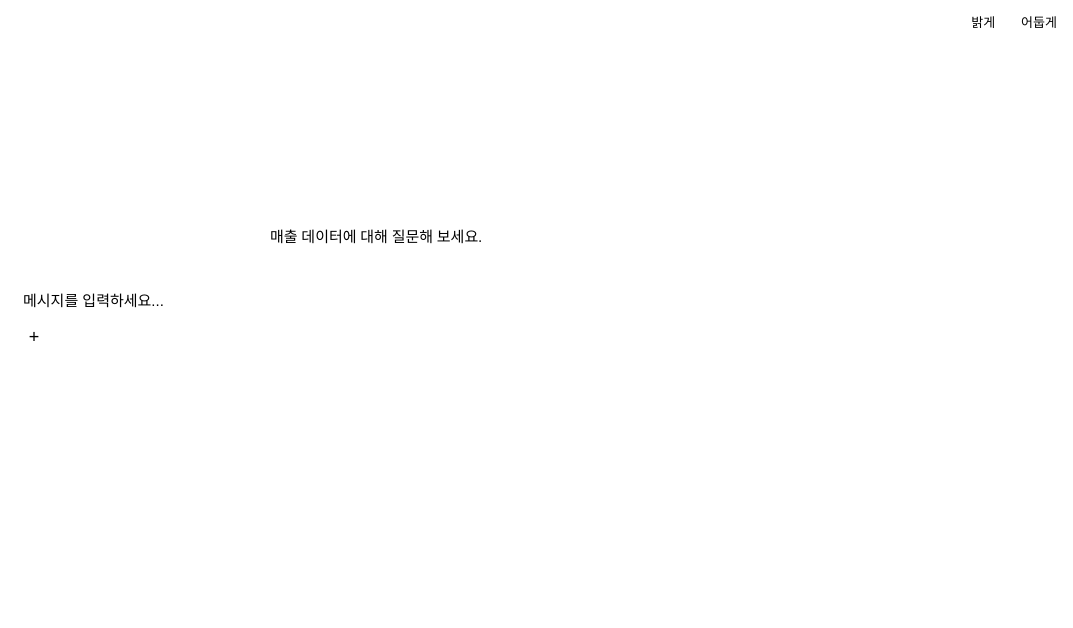
Scenario: Chat › renders a ```chart block as a ChartRenderer instead of a code block
Type "매출 추이 보여줘" into the field with placeholder "메시지를 입력하세요..." at (379, 300), box [19,288,739,313]
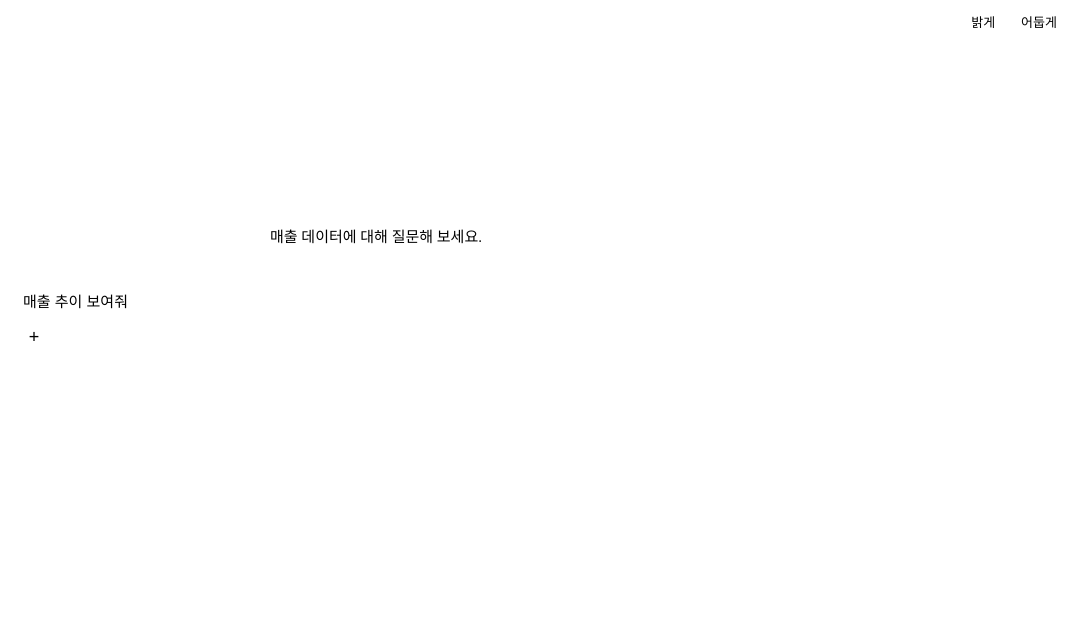
Press Enter in the field with placeholder "메시지를 입력하세요...", box [19,288,739,313]
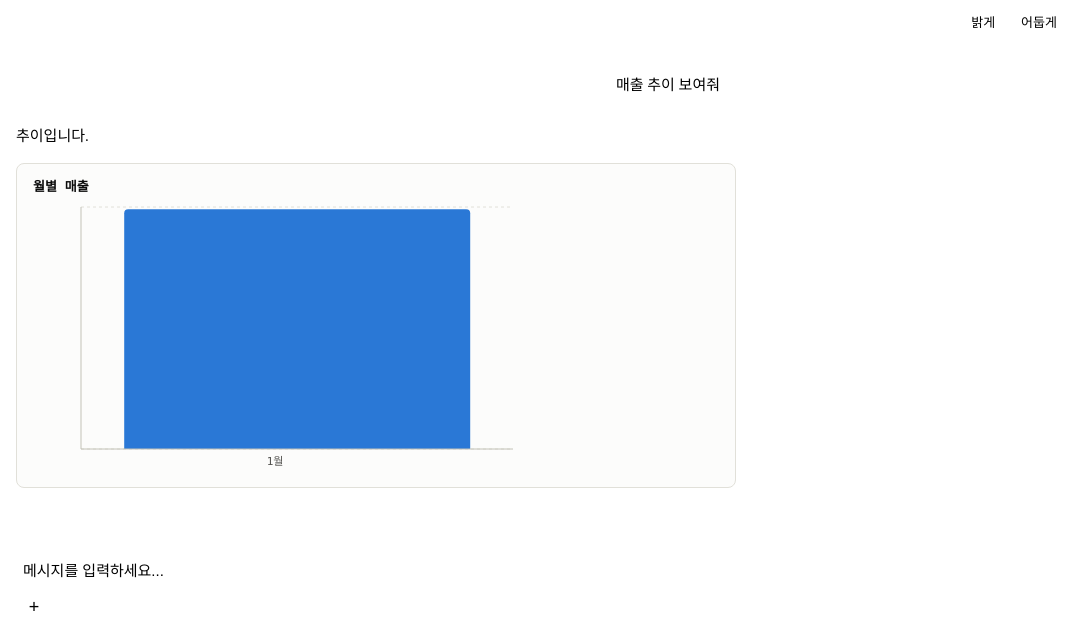
Result: the text "월별 매출" is shown at [33,179,89,194]
